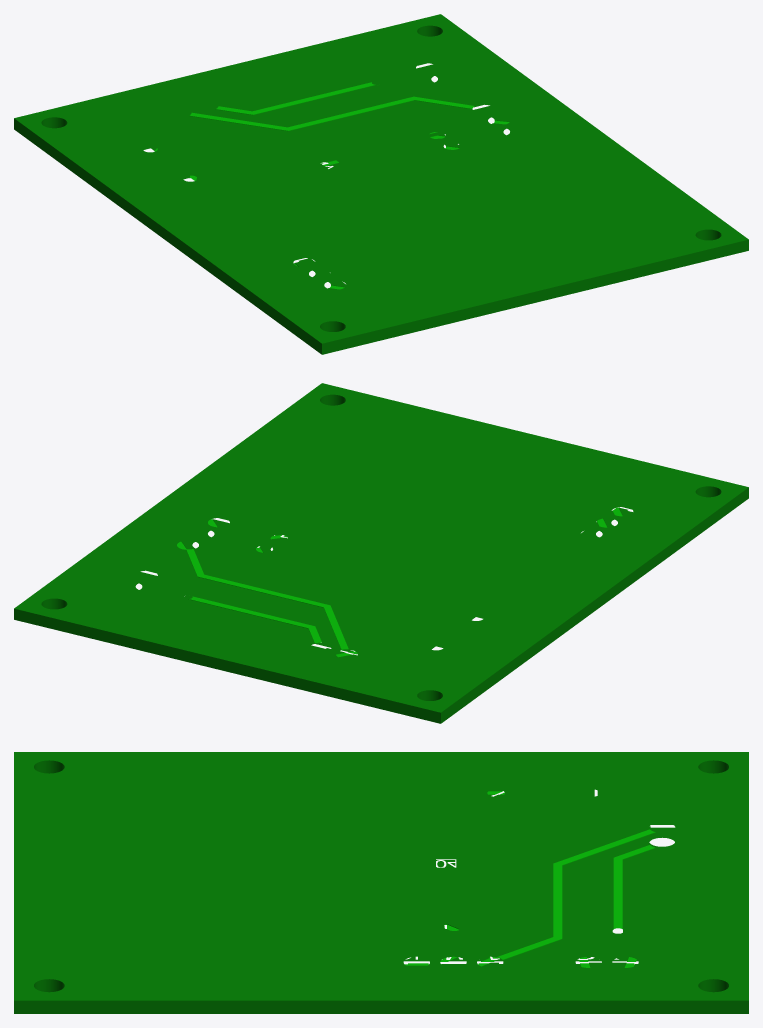
The model's file is PCB.fbx.
3 renders of one model, top to bottom at view 1: azimuth 30°, elevation 25°; view 2: azimuth 150°, elevation 25°; view 3: azimuth 270°, elevation 25°, orthographic. The views are drawn at different scales.
Visible parts, largest first — view 1: NAUO1.003, NAUO1.010; view 2: NAUO1.003, NAUO1.010; view 3: NAUO1.003, NAUO1.010.
Boxes of the visible parts, <box> form: NAUO1.003: <box>14,14,748,354</box>; NAUO1.010: <box>154,82,509,289</box>; NAUO1.003: <box>14,383,748,723</box>; NAUO1.010: <box>177,507,622,657</box>; NAUO1.003: <box>14,752,748,1013</box>; NAUO1.010: <box>405,791,655,967</box>.
Size of the model in its own units: 4 by 0.23 by 5.
